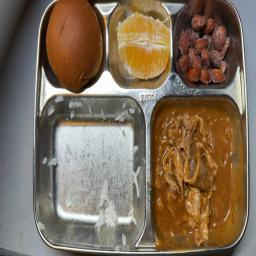100_bread: (42, 3, 105, 85)
100_nuts: (177, 10, 231, 87)
100_orange: (112, 6, 173, 86)
75_beef: (154, 104, 235, 236)
empty: (43, 100, 142, 242)
